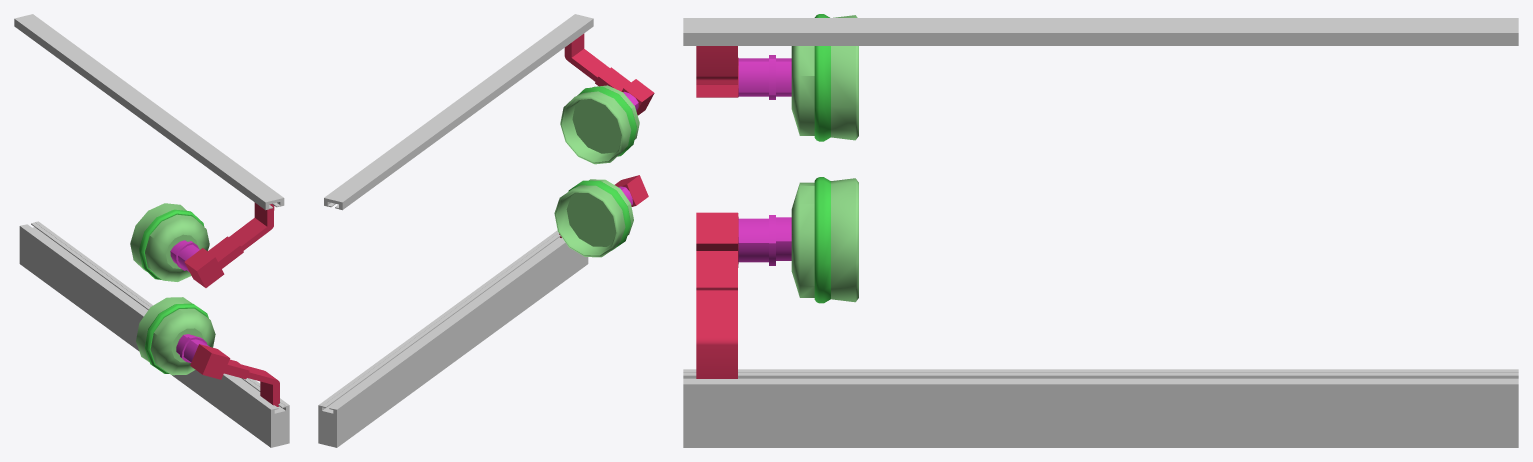
File: zasunovac.fbx
The picture shows the model from 3 angles, left to right: view 1: azimuth 30°, elevation 25°; view 2: azimuth 150°, elevation 25°; view 3: azimuth 270°, elevation 25°; orthographic projection. The views are drawn at different scales.
Visible parts, largest first — view 1: Cube.005; view 2: Cube.005; view 3: Cube.005.
Part boxes in pixels (bbox=[...]): Cube.005: bbox=[14, 14, 289, 447]; Cube.005: bbox=[318, 14, 654, 447]; Cube.005: bbox=[683, 14, 1518, 447].
Size of the model in its own units: 131 by 284 by 525.
